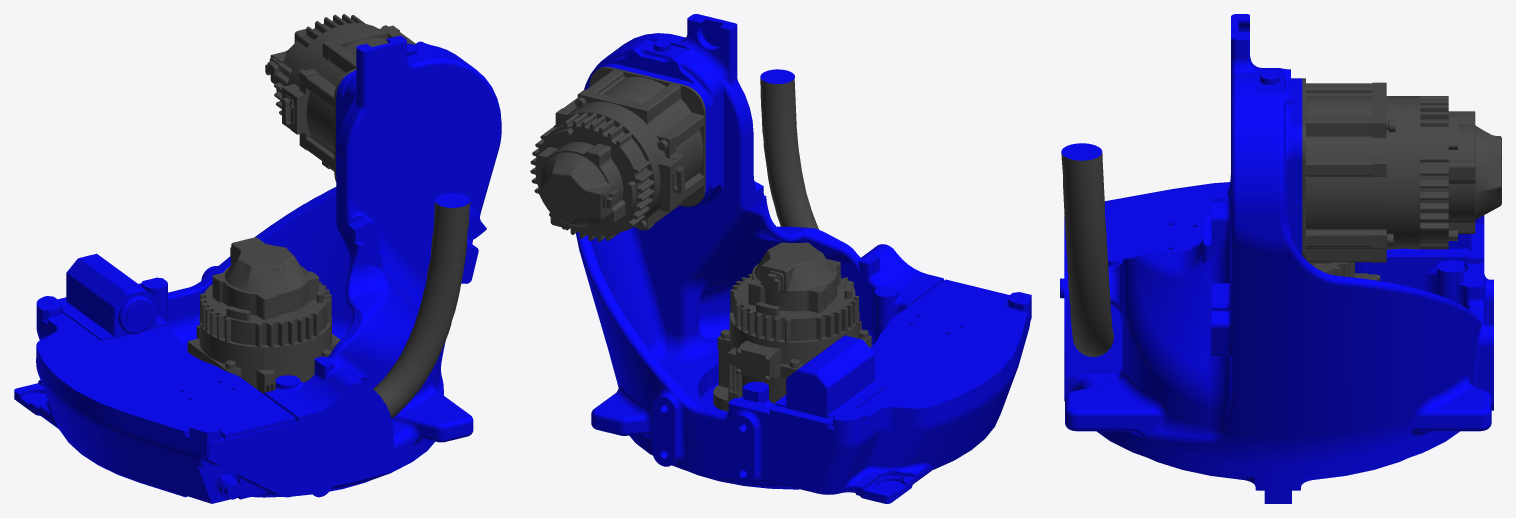
3 renders of one model, left to right at view 1: azimuth 30°, elevation 25°; view 2: azimuth 150°, elevation 25°; view 3: azimuth 270°, elevation 25°, orthographic. The views are drawn at different scales.
Visible parts, largest first — view 1: gp12_link_1_s; view 2: gp12_link_1_s; view 3: gp12_link_1_s.
Boxes of the visible parts, left/top/right/bottom form: gp12_link_1_s: left=14, top=14, right=501, bottom=503; gp12_link_1_s: left=530, top=14, right=1031, bottom=503; gp12_link_1_s: left=1060, top=14, right=1501, bottom=503.
Bounding box in the file's own units: 0.4656 × 0.3685 × 0.411.
